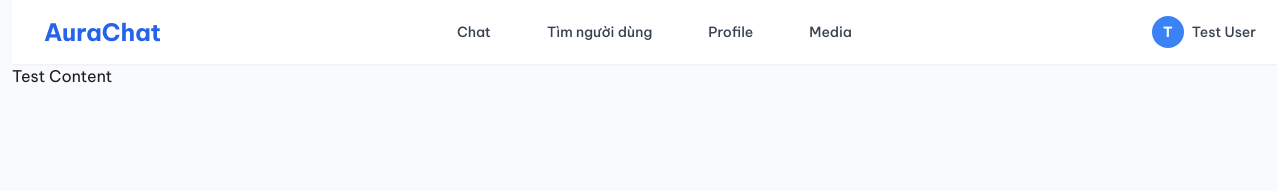
Test: MainLayout › should open user menu when avatar is clicked
This screenshot has width=1277, height=191.
Click the button with aria-label "User menu".
click(1204, 32)  # box [1148,12,1260,52]
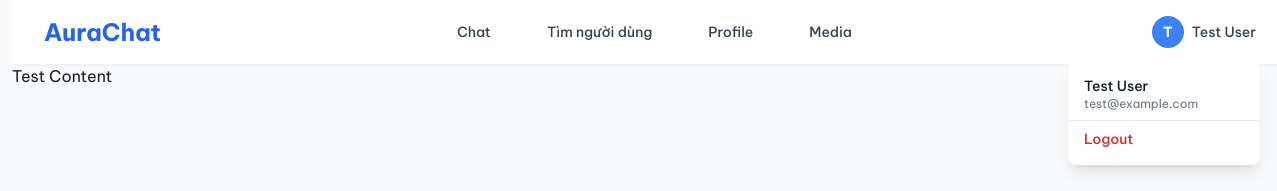
Expected: the button "Logout" is shown, [1068,121,1260,157]
